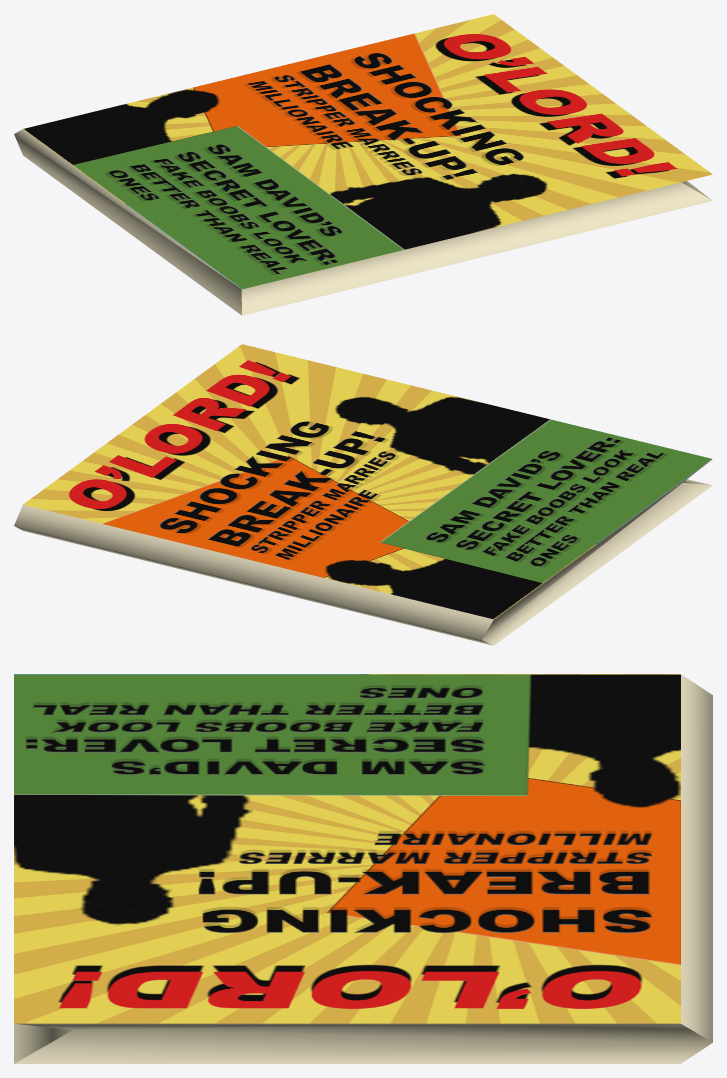
Rendered from lehti.FBX.
3 renders of one model, top to bottom at view 1: azimuth 30°, elevation 25°; view 2: azimuth 150°, elevation 25°; view 3: azimuth 270°, elevation 25°, orthographic. The views are drawn at different scales.
Parts seen in each view (by area): view 1: lehti; view 2: lehti; view 3: lehti.
Part boxes in pixels (box(x1,y1,x2,y2)): lehti: box(14, 14, 712, 315); lehti: box(14, 344, 712, 645); lehti: box(14, 674, 712, 1063).
Size of the model in its own units: 10.62 by 0.5695 by 8.97.
Materials: 1 (1 with a texture image).
